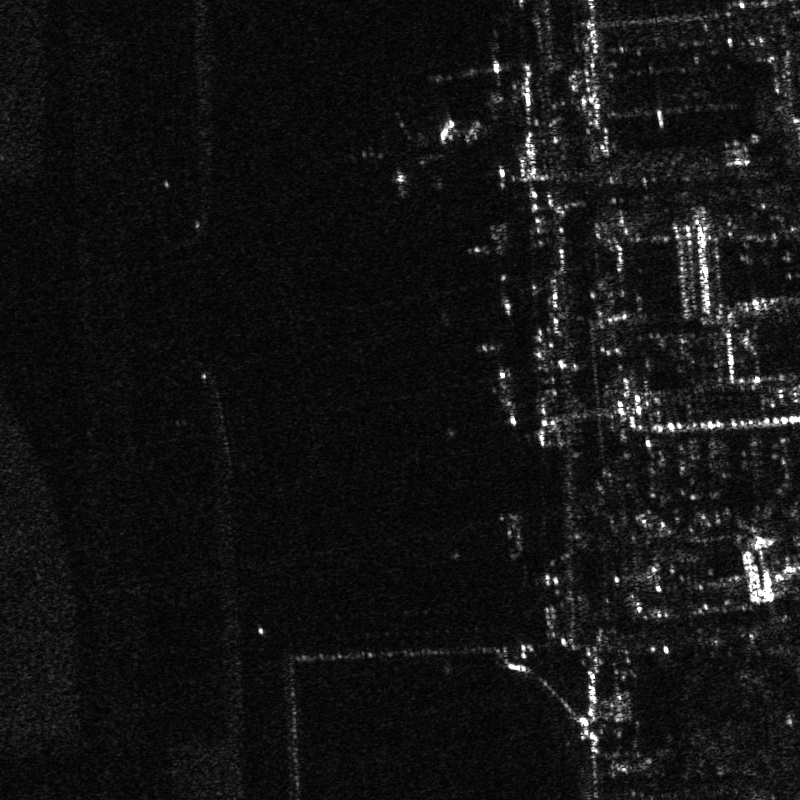A220: (342, 100, 488, 200)
